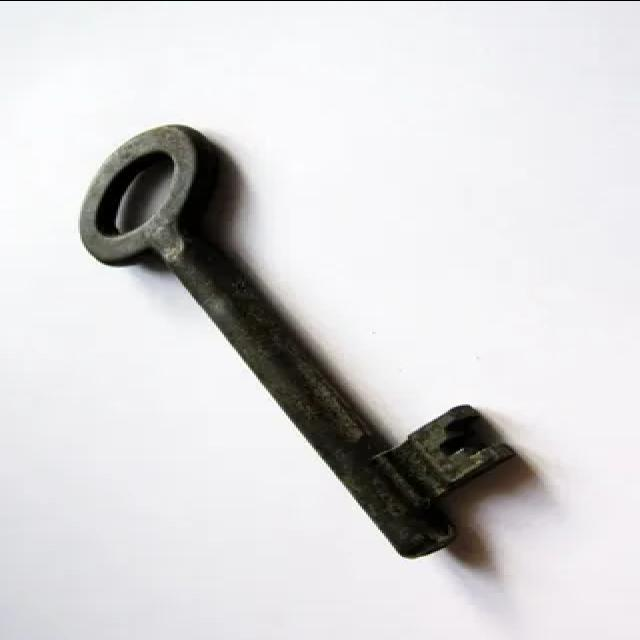key: (58, 107, 532, 573)
